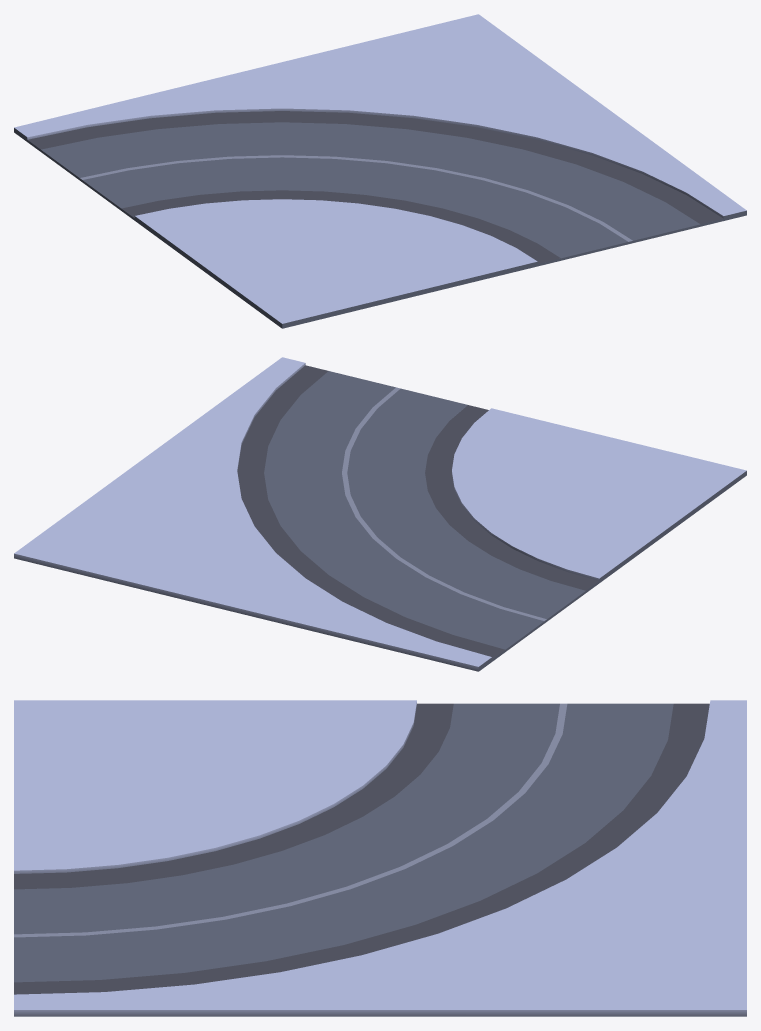
The model's file is road-curve-pavement.glb.
3 renders of one model, top to bottom at view 1: azimuth 30°, elevation 25°; view 2: azimuth 150°, elevation 25°; view 3: azimuth 270°, elevation 25°, orthographic. The views are drawn at different scales.
Parts seen in each view (by area): view 1: road-curve-pavement; view 2: road-curve-pavement; view 3: road-curve-pavement.
Part boxes in pixels (<box>): road-curve-pavement: <box>14,14,746,328</box>; road-curve-pavement: <box>14,357,746,671</box>; road-curve-pavement: <box>14,700,746,1016</box>.
Bounding box in the file's own units: 2 × 0.02 × 2.
Materials: 1 (1 with a texture image).
